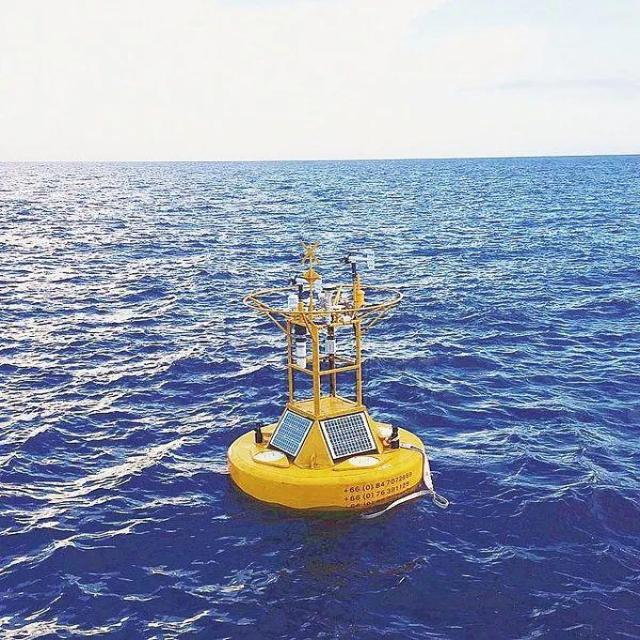buoy: (225, 239, 432, 514)
